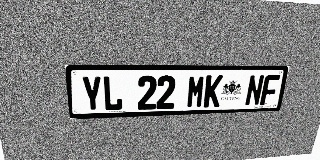2: (156, 75, 176, 109), (138, 75, 157, 110)
F: (259, 75, 280, 105)
K: (203, 75, 223, 107)
L: (102, 76, 123, 111)
M: (186, 75, 206, 108)
N: (244, 75, 265, 106)
Y: (80, 76, 103, 112)
